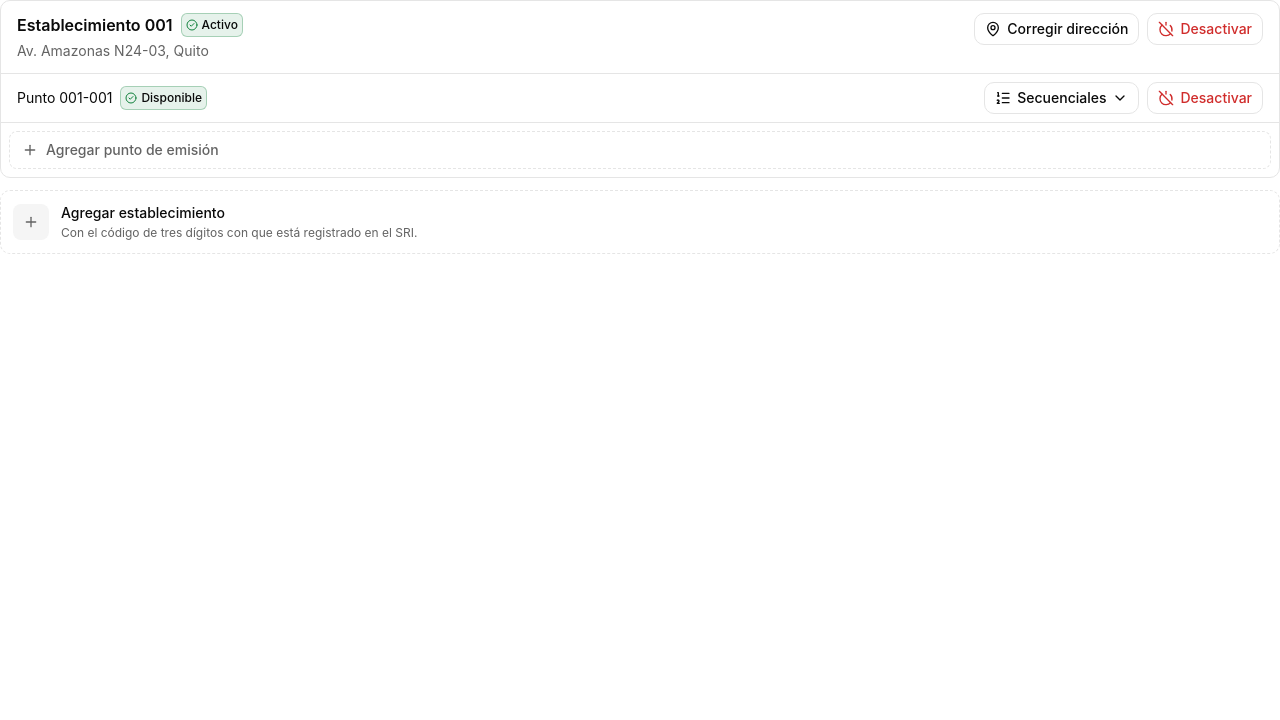
Test: Establecimientos (design D14) › muestra puntos con su disponibilidad y agrega uno
Expected: the text "Punto 001-001" is shown, [17,88,112,108]
Expected: the text "Disponible" is shown, [141,90,202,106]
Click the button with aria-label "Agregar punto de emisión al establecimiento 001" at (132, 150), box [9,131,1271,169]
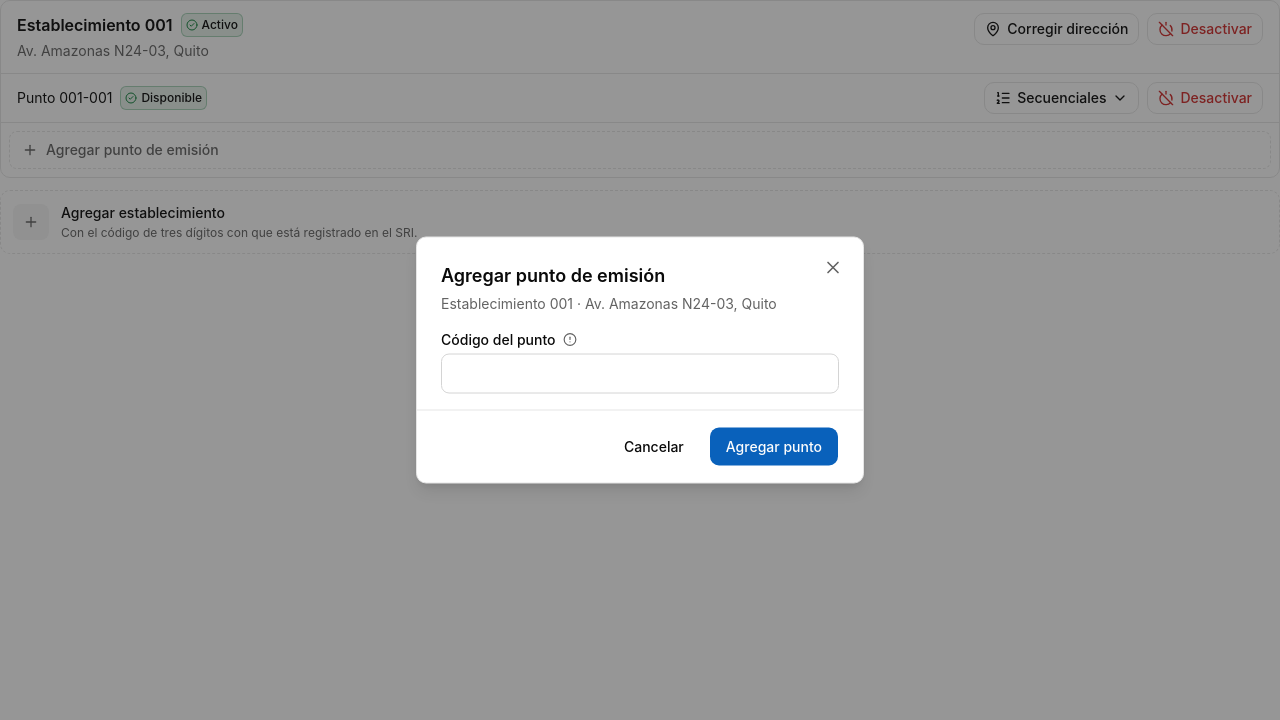
Expected: the text "Establecimiento 001 · Av. Amazonas N24-03, Quito" is shown, [441,294,807,314]
Type "002" into the field labelled "Código del punto" at (640, 374), box [441,354,839,394]
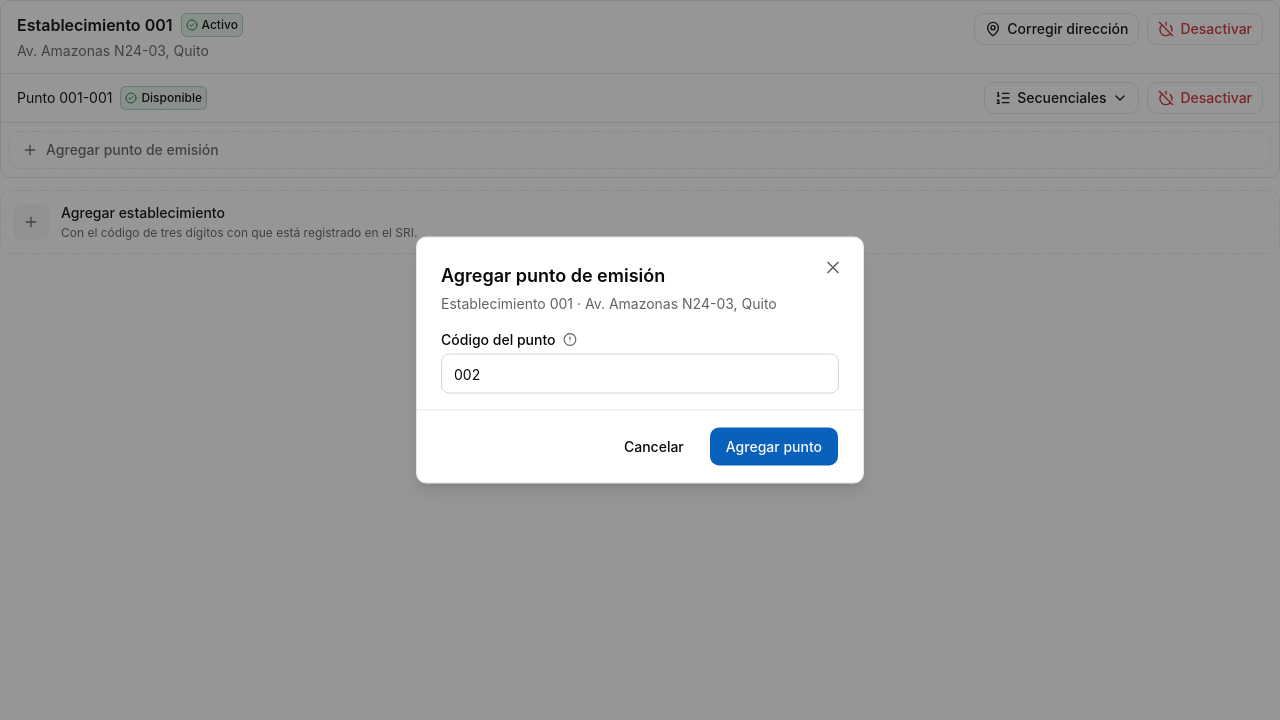
Click the button "Agregar punto" at (774, 446), box [709,426,839,466]
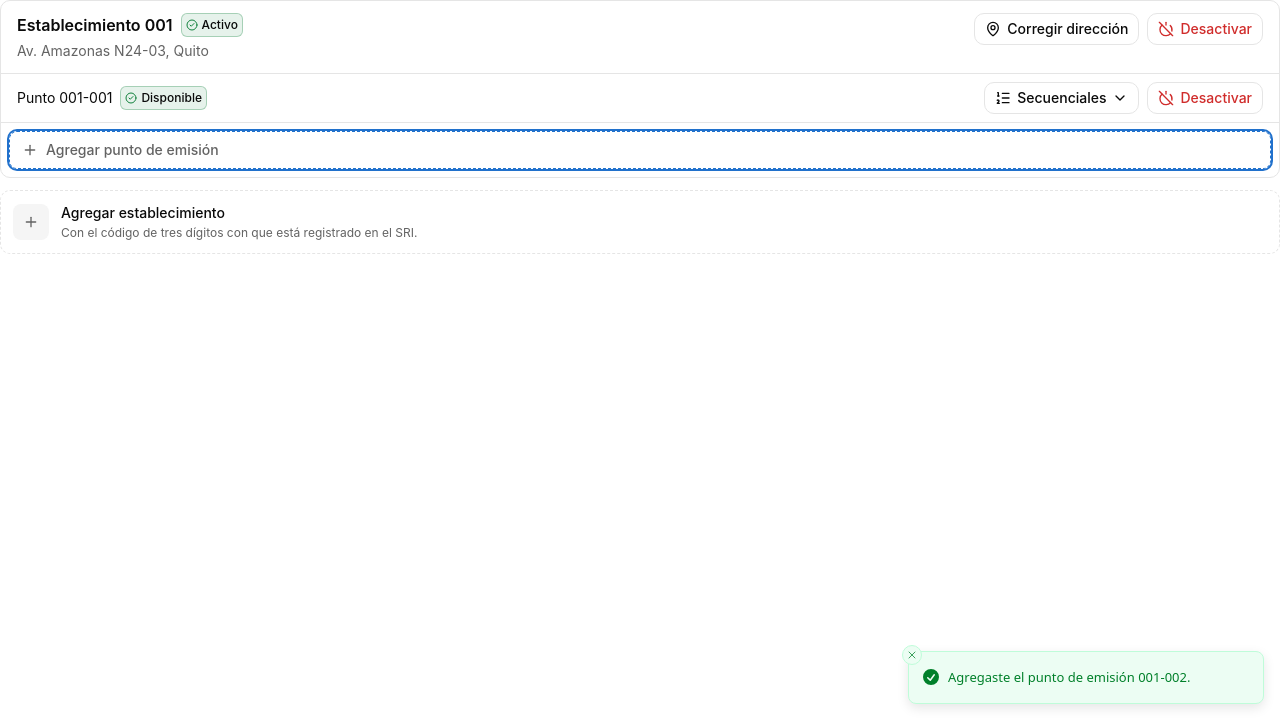
Expected: the text "Agregaste el punto de emisión 001-002." is shown, [948,668,1190,687]
